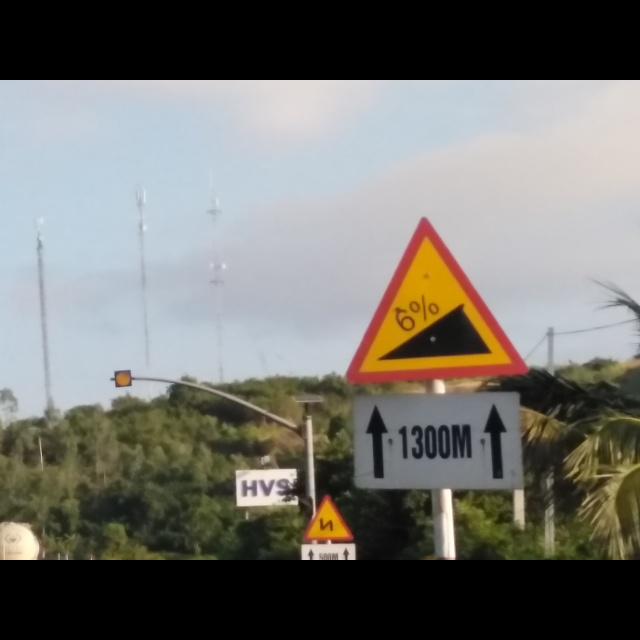Dốc lên nguy hiểm: (343, 215, 529, 388)
Ngoặt nguy hiểm liên tiếp bên phải: (303, 497, 356, 545)
